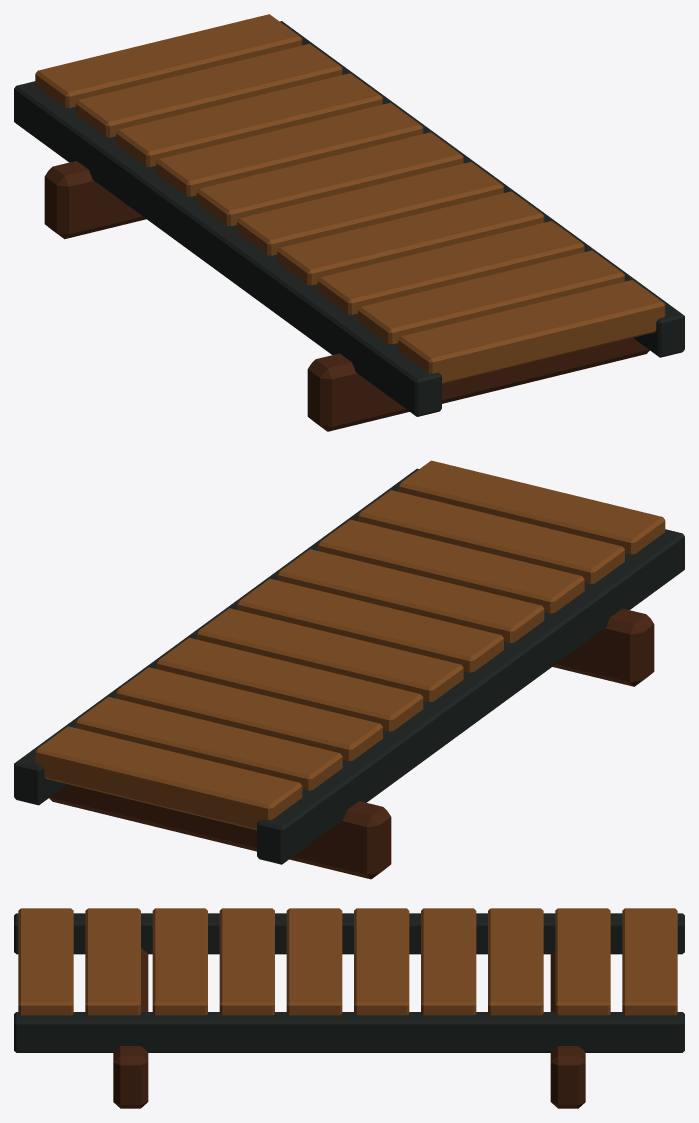
Rendered from conveyor.glb.
3 renders of one model, top to bottom at view 1: azimuth 30°, elevation 25°; view 2: azimuth 150°, elevation 25°; view 3: azimuth 270°, elevation 25°, orthographic. The views are drawn at different scales.
Visible parts, largest first — view 1: conveyor_body; view 2: conveyor_body; view 3: conveyor_body.
Boxes of the visible parts, x1=… form: conveyor_body: x1=14, y1=14, x2=684, y2=431; conveyor_body: x1=14, y1=460, x2=684, y2=879; conveyor_body: x1=14, y1=908, x2=684, y2=1108.
Size of the model in its own units: 1.1 by 0.335 by 2.3.
